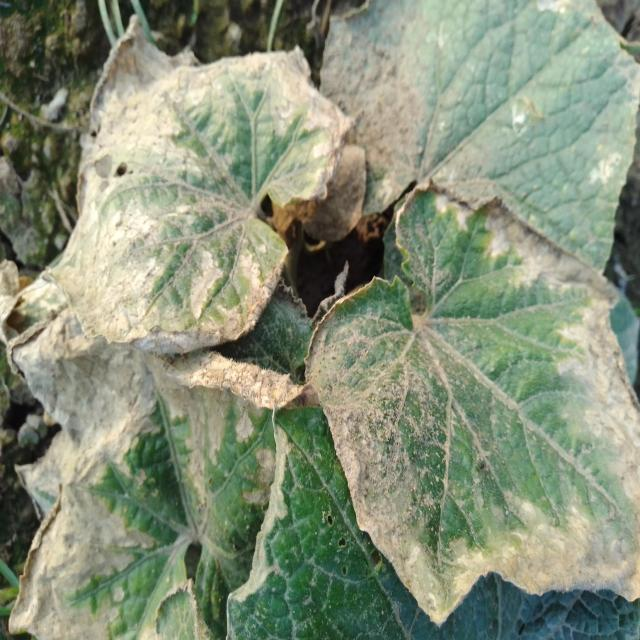cucumber_bacterial: (311, 195, 640, 623), (3, 23, 343, 352), (224, 394, 640, 633), (313, 0, 640, 262), (15, 333, 285, 640)
